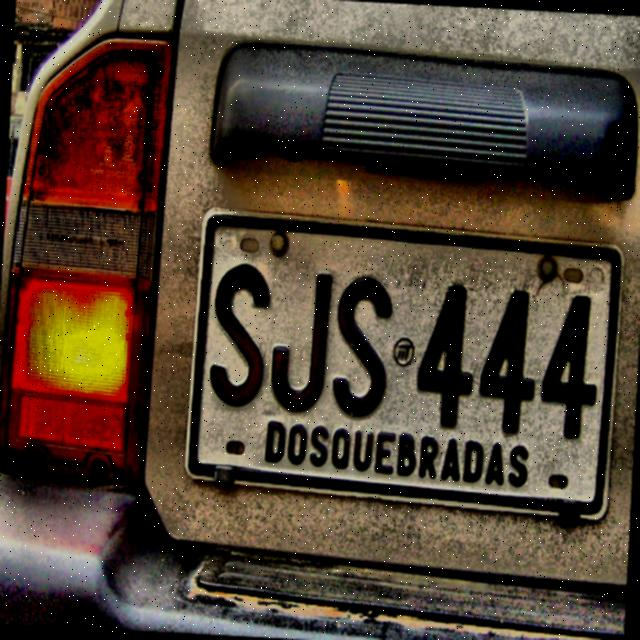plate: (181, 206, 626, 523)
